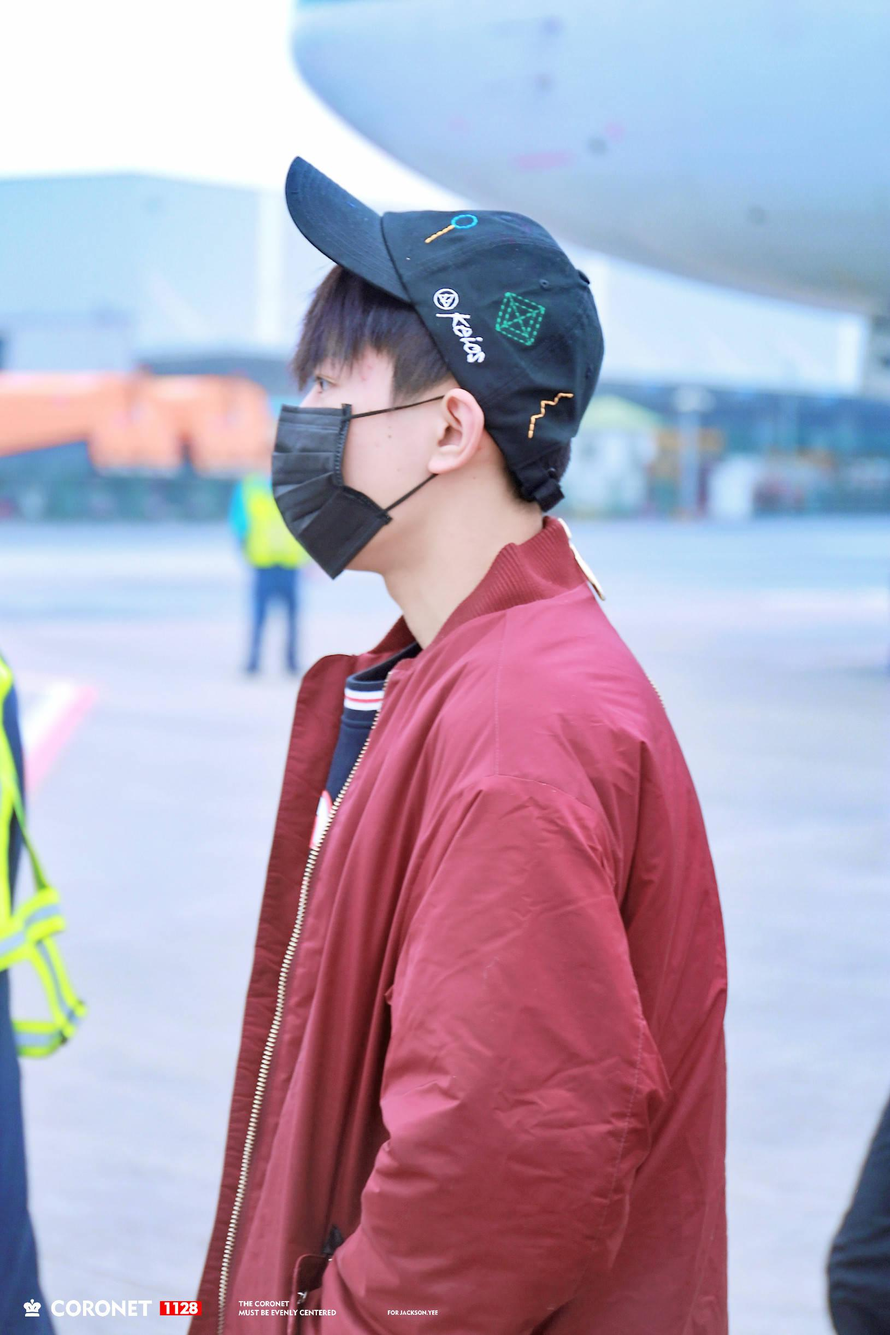OK: (267, 334, 392, 579)
